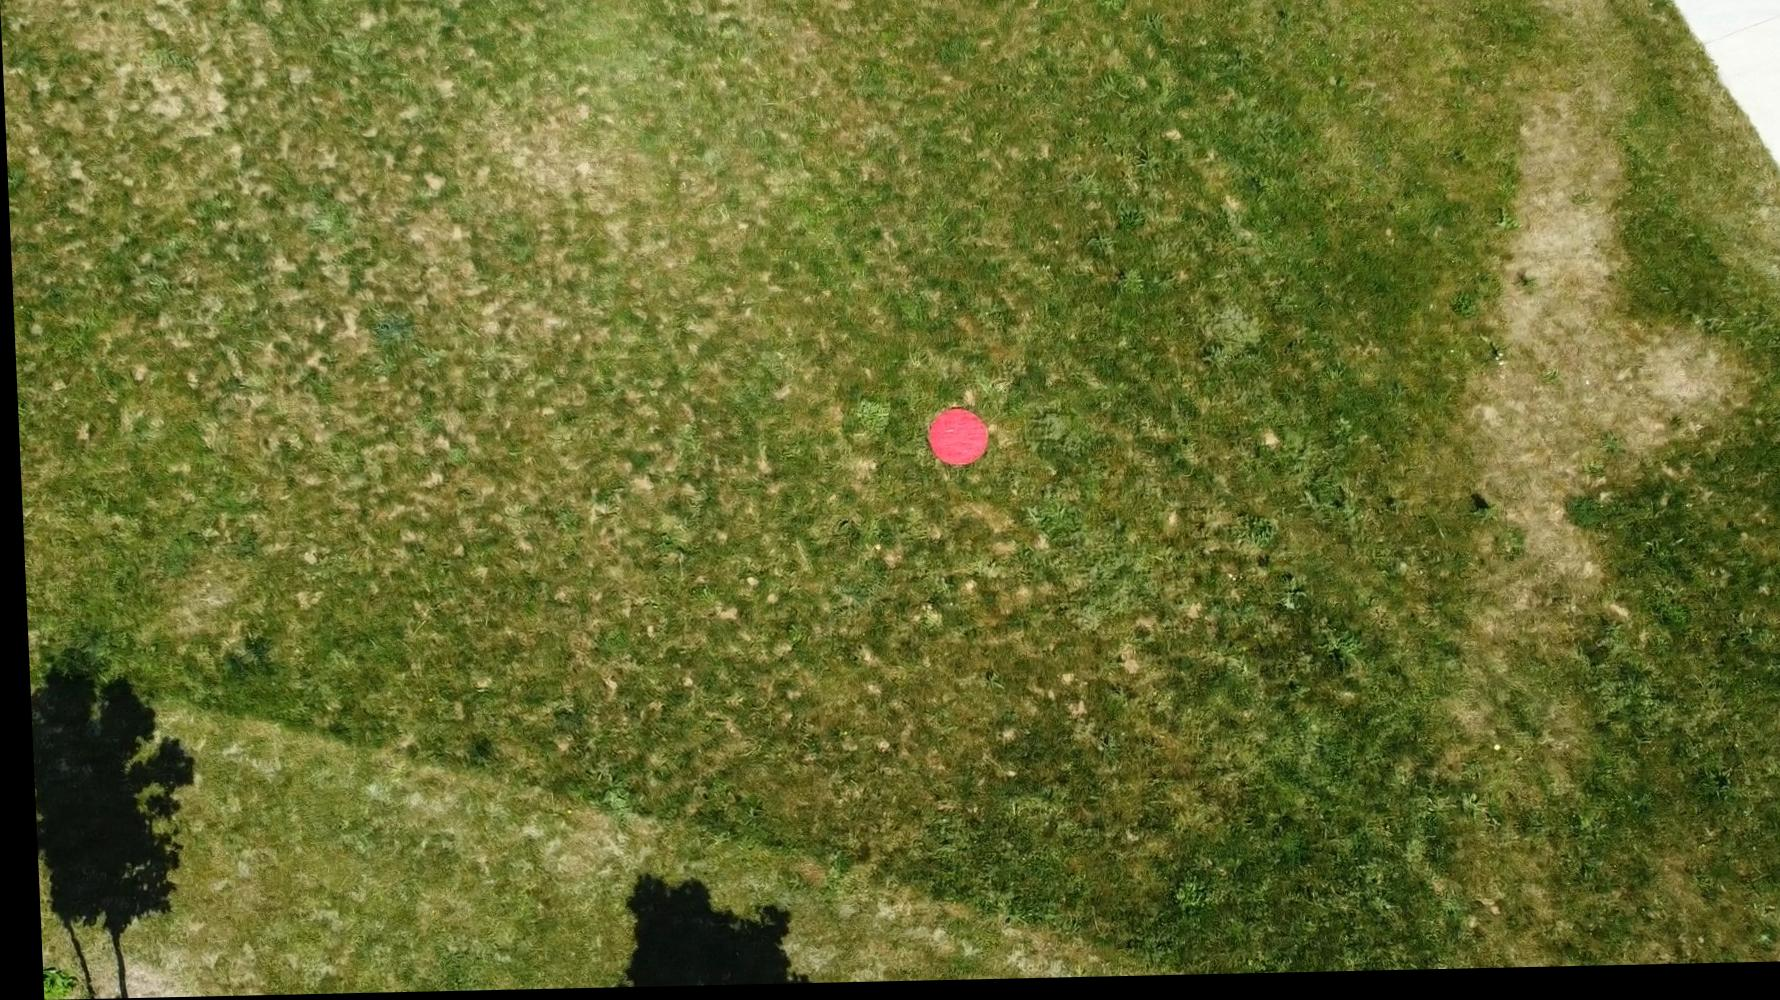Red: (917, 407, 989, 477)
